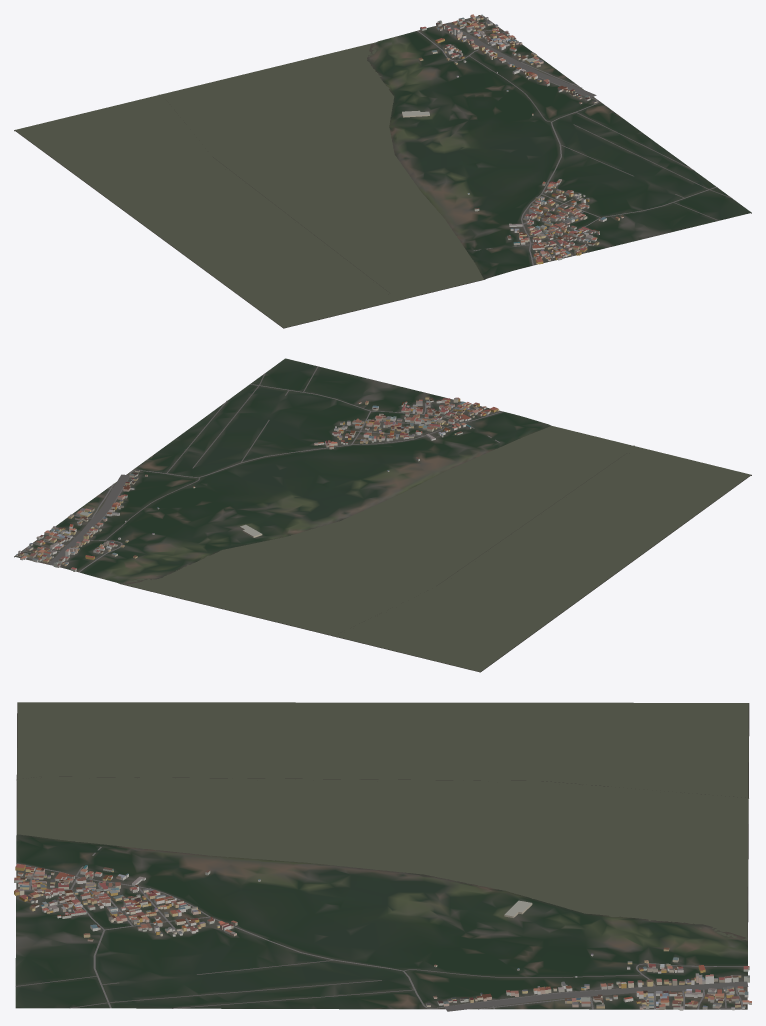
The picture shows the model from 3 angles, top to bottom: view 1: azimuth 30°, elevation 25°; view 2: azimuth 150°, elevation 25°; view 3: azimuth 270°, elevation 25°; orthographic projection. The views are drawn at different scales.
Parts seen in each view (by area): view 1: water, ground, buildings, roads; view 2: water, ground, buildings, roads; view 3: water, ground, buildings, roads.
Part boxes in pixels (<box>): water: <box>15,42,483,327</box>; ground: <box>14,16,751,328</box>; buildings: <box>402,14,623,264</box>; roads: <box>417,16,731,265</box>; water: <box>121,426,750,671</box>; ground: <box>14,358,751,672</box>; buildings: <box>16,396,499,571</box>; roads: <box>18,366,503,572</box>; water: <box>16,702,748,940</box>; ground: <box>15,702,749,1009</box>; buildings: <box>14,864,751,1010</box>; roads: <box>15,847,748,1011</box>.
Size of the model in its own units: 1412 by 24.16 by 1413.
